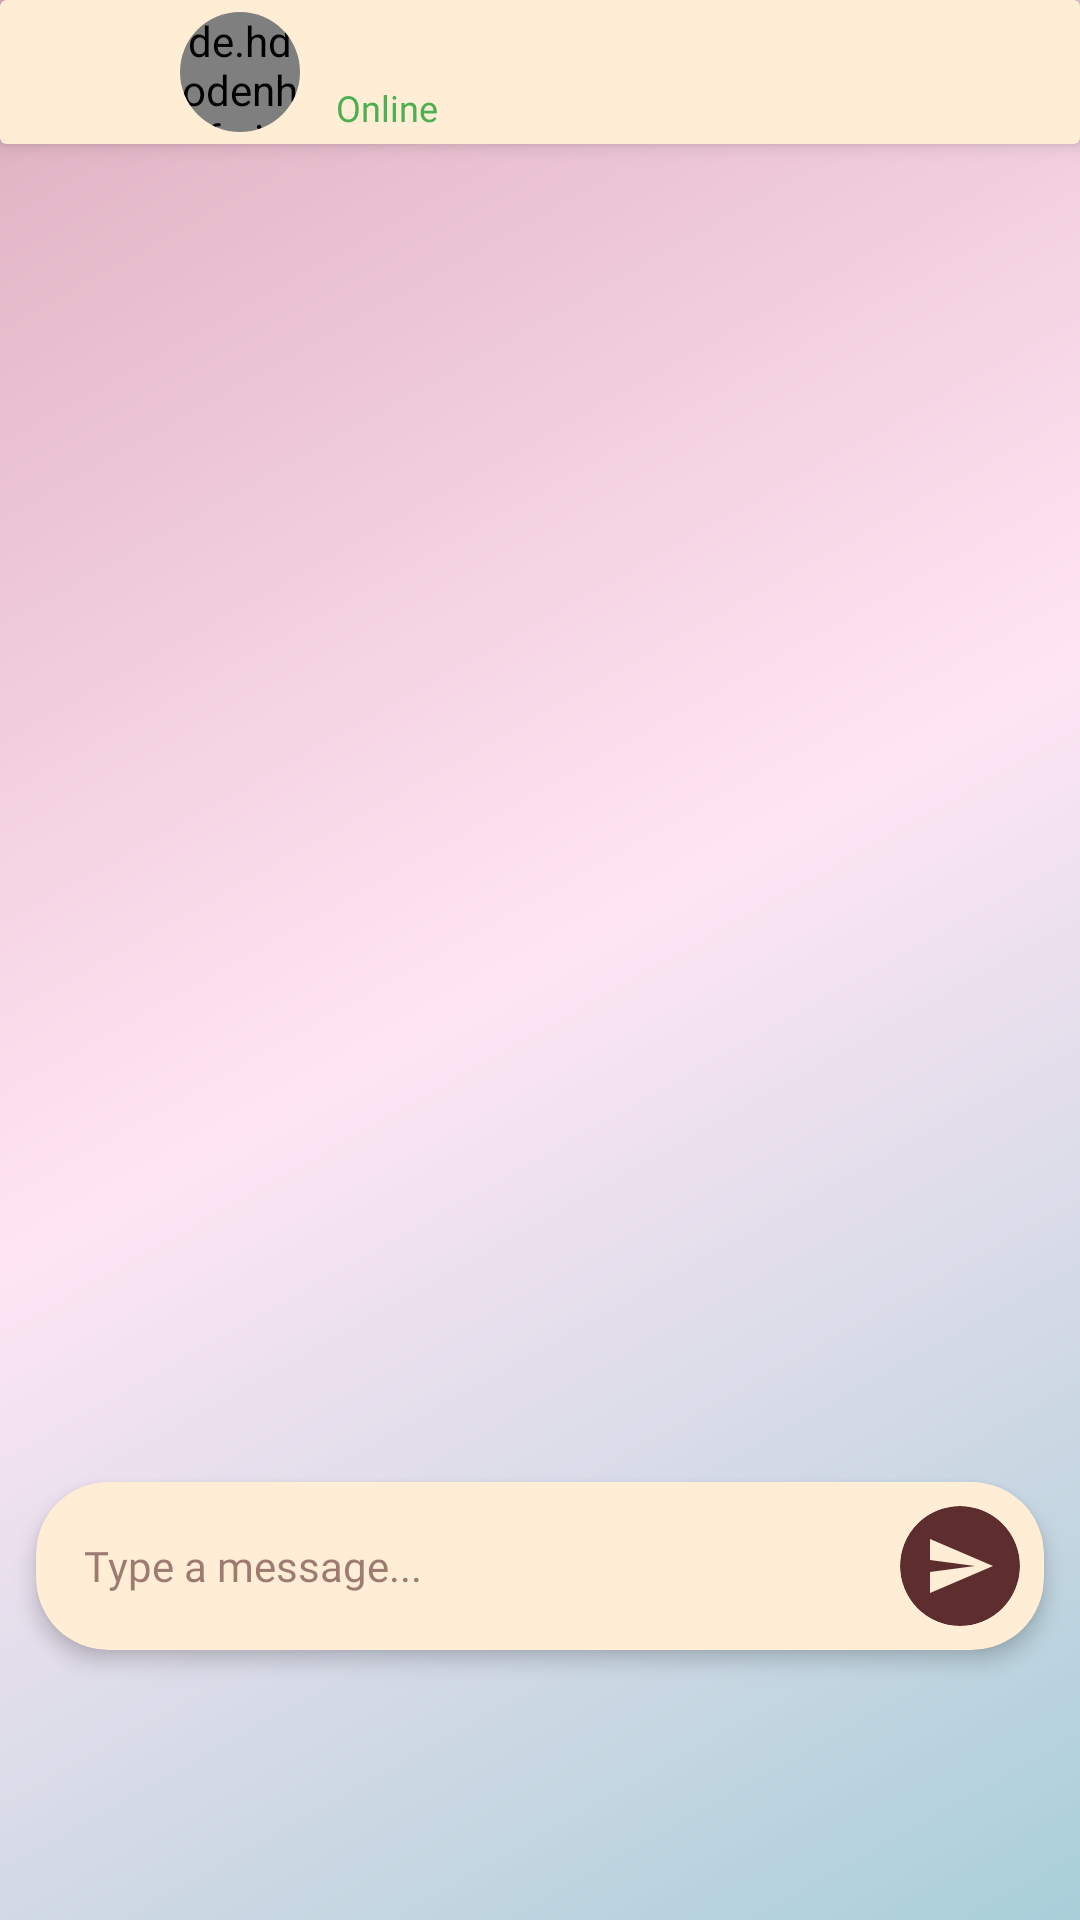

Where icons sit on this 1080px x 1920px app screen, as [left=x1, top=y1, right=x2, bottom=y2]:
send: [left=900, top=1506, right=1020, bottom=1626]
